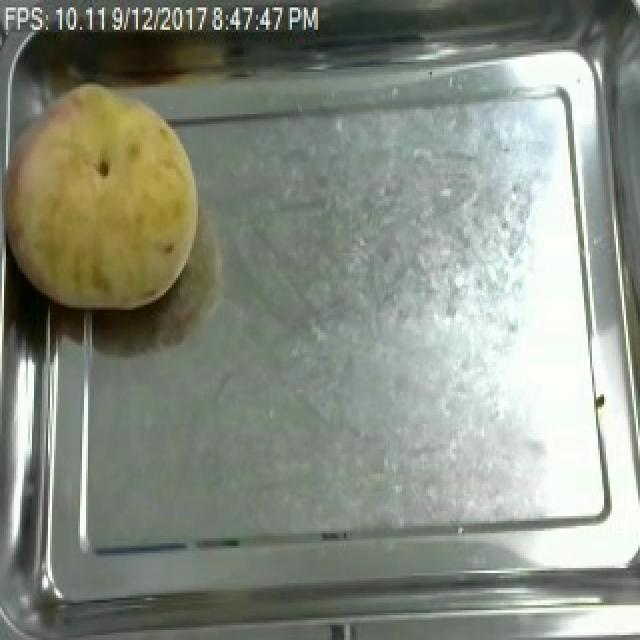Fruit: (2, 67, 210, 322)
